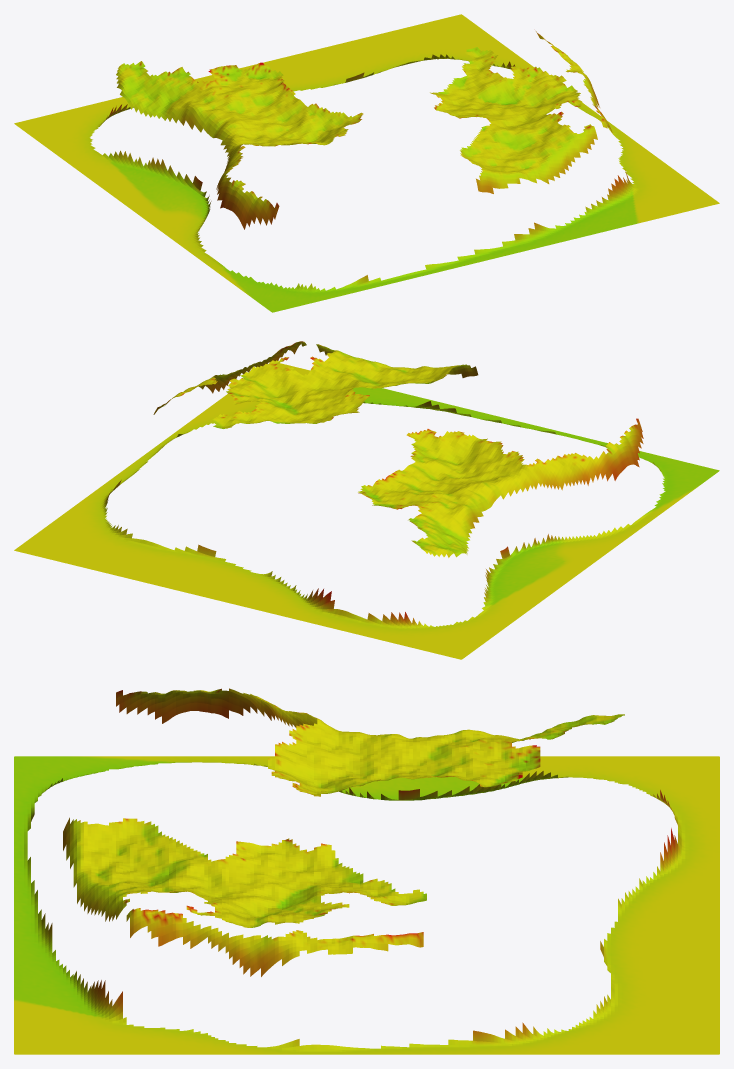
Rendered from snowy_peak_map_snow.obj.
3 renders of one model, top to bottom at view 1: azimuth 30°, elevation 25°; view 2: azimuth 150°, elevation 25°; view 3: azimuth 270°, elevation 25°, orthographic. The views are drawn at different scales.
Visible parts, largest first — view 1: Plane; view 2: Plane; view 3: Plane.
Part boxes in pixels (x1,y1,x2,y2): Plane: [14, 14, 719, 312]; Plane: [14, 341, 719, 659]; Plane: [14, 688, 719, 1054].
Bounding box in the file's own units: 200 × 30.94 × 200.
